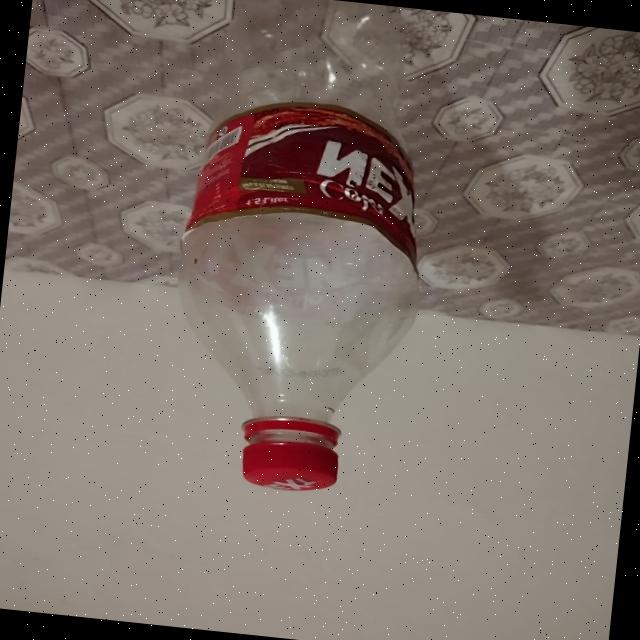bottle: (152, 0, 447, 508)
cap: (224, 410, 350, 506)
label: (174, 90, 424, 264)
